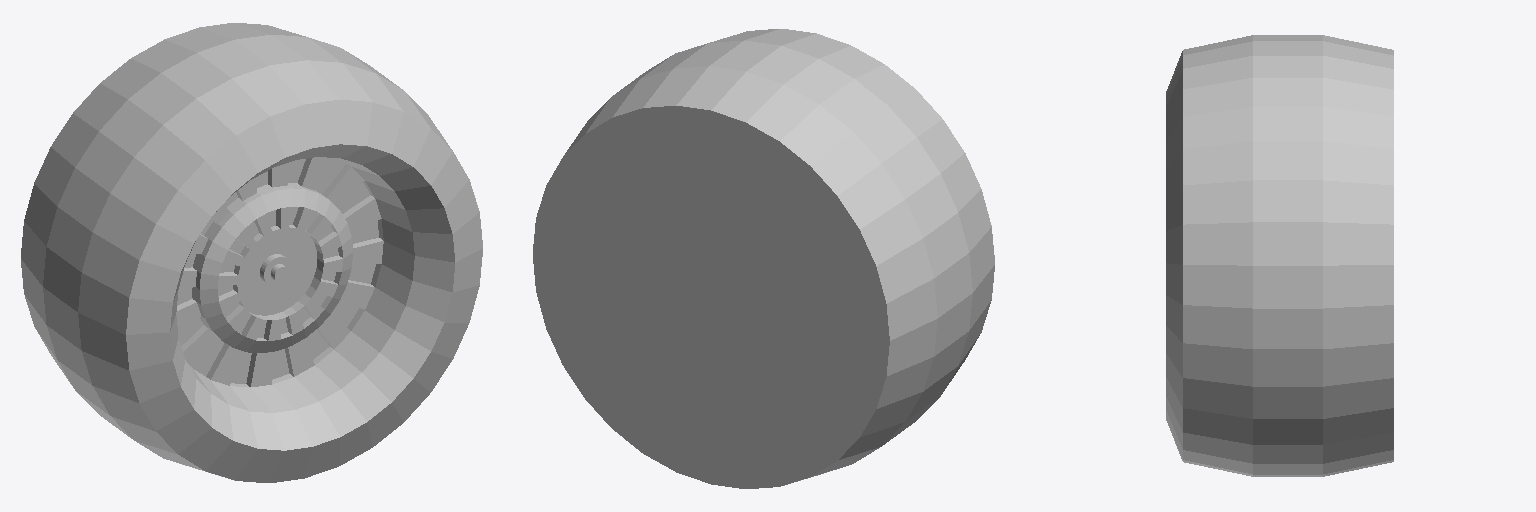
Rendered from WFL-2.obj.
3 views of the same model, side by side, from view 1: azimuth 30°, elevation 25°; view 2: azimuth 150°, elevation 25°; view 3: azimuth 270°, elevation 25° (orthographic).
Visible parts, largest first — view 1: f_wheel.001; view 2: f_wheel.001; view 3: f_wheel.001.
Part boxes in pixels (x1,y1,x2,y2): f_wheel.001: (21,23,482,482); f_wheel.001: (533,29,994,488); f_wheel.001: (1166,35,1393,476).
Bounding box in the file's own units: 1.13 × 1.13 × 0.5821.